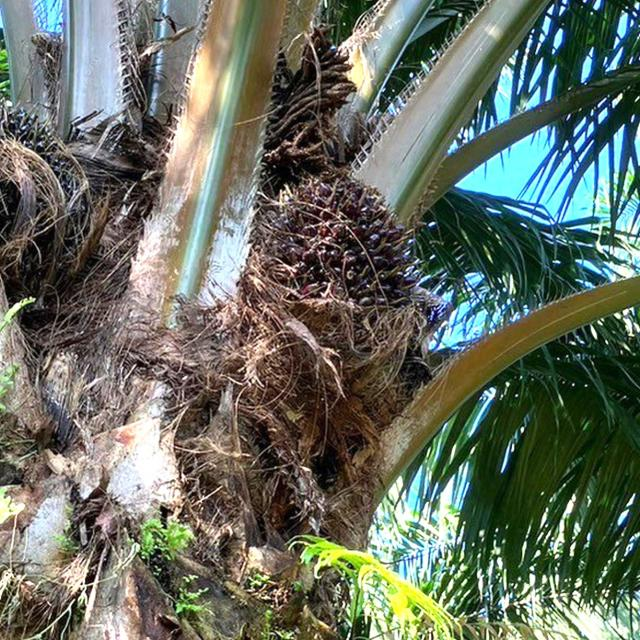ripe: (258, 169, 449, 361)
